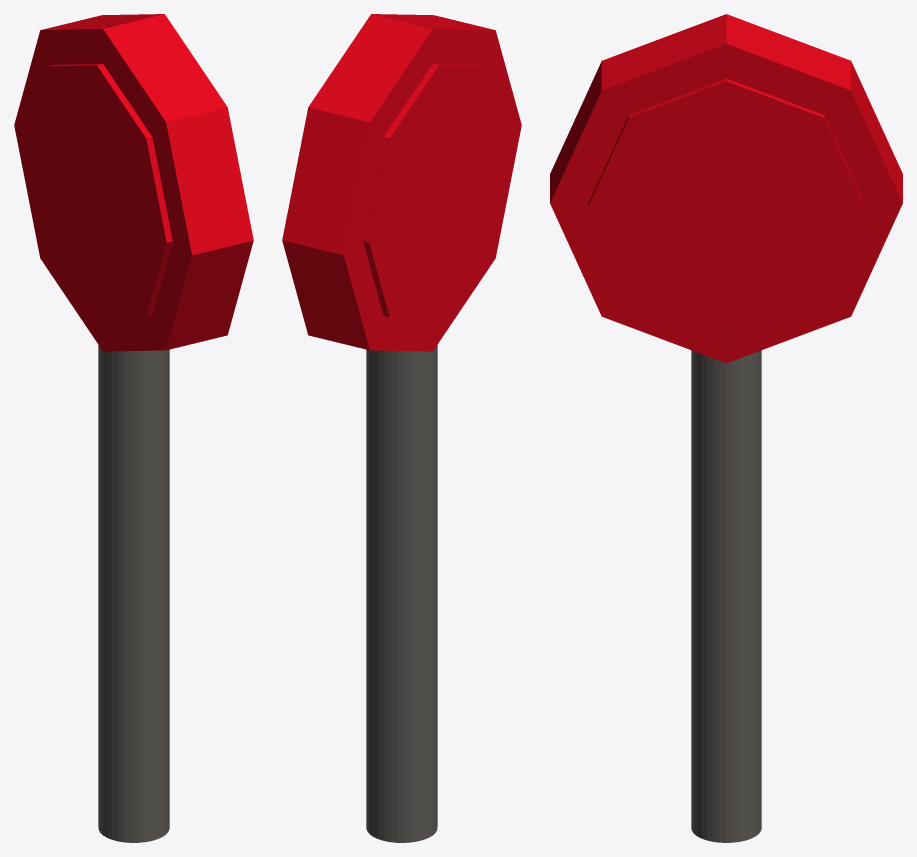
Rendered from StopSign.fbx.
The picture shows the model from 3 angles, left to right: view 1: azimuth 30°, elevation 25°; view 2: azimuth 150°, elevation 25°; view 3: azimuth 270°, elevation 25°; orthographic projection.
Visible parts, largest first — view 1: Cylinder.001; view 2: Cylinder.001; view 3: Cylinder.001.
Part boxes in pixels (box(x1,y1,x2,y2)): Cylinder.001: box(14, 14, 253, 842); Cylinder.001: box(282, 14, 521, 842); Cylinder.001: box(550, 14, 902, 842).
Bounding box in the file's own units: 12 × 125 × 50.
